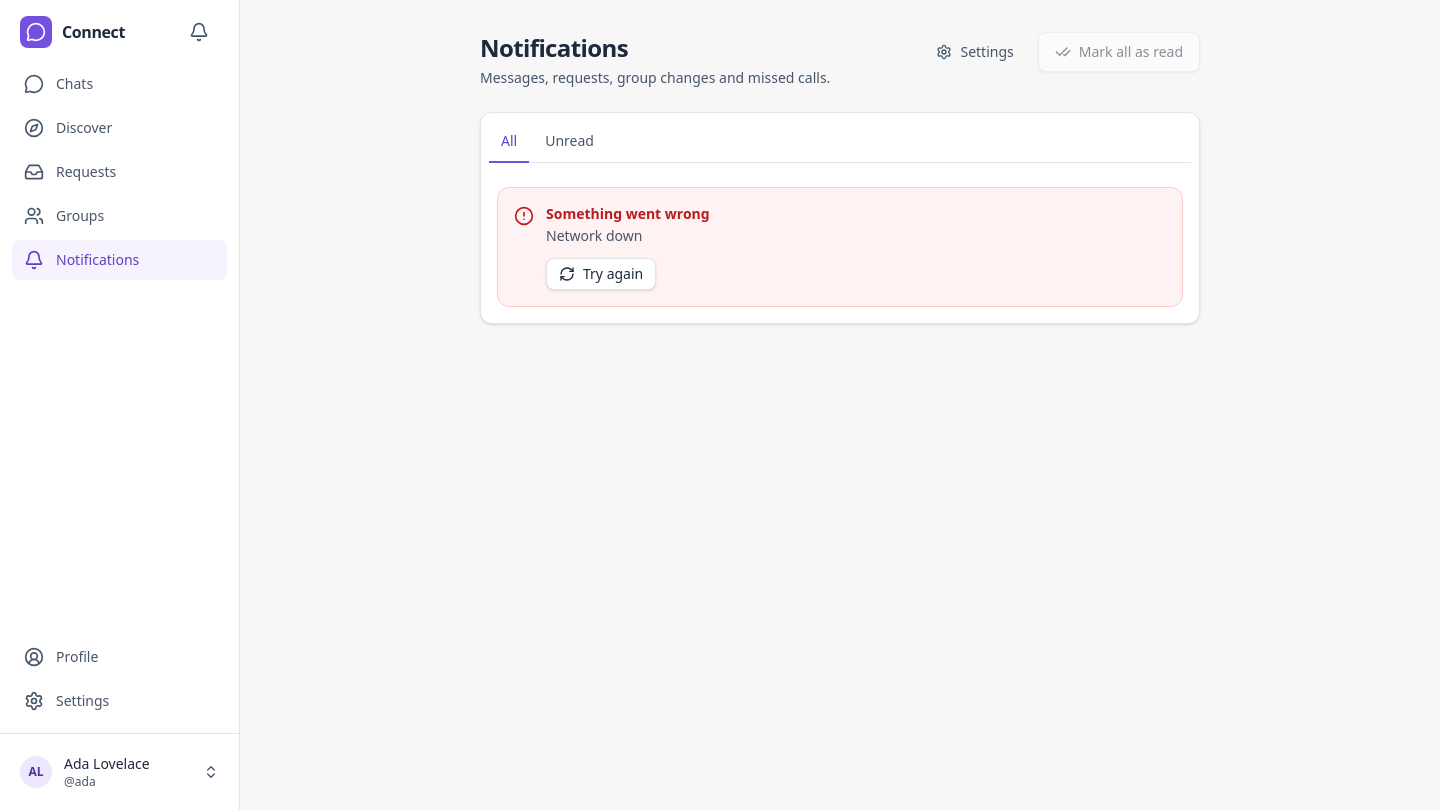
Test: NotificationsPage › shows empty and error states
expect the text "Network down" is shown: met, box [546,226,642,245]
Click the button "Try again". click: x=601, y=274
box: [546,258,656,290]
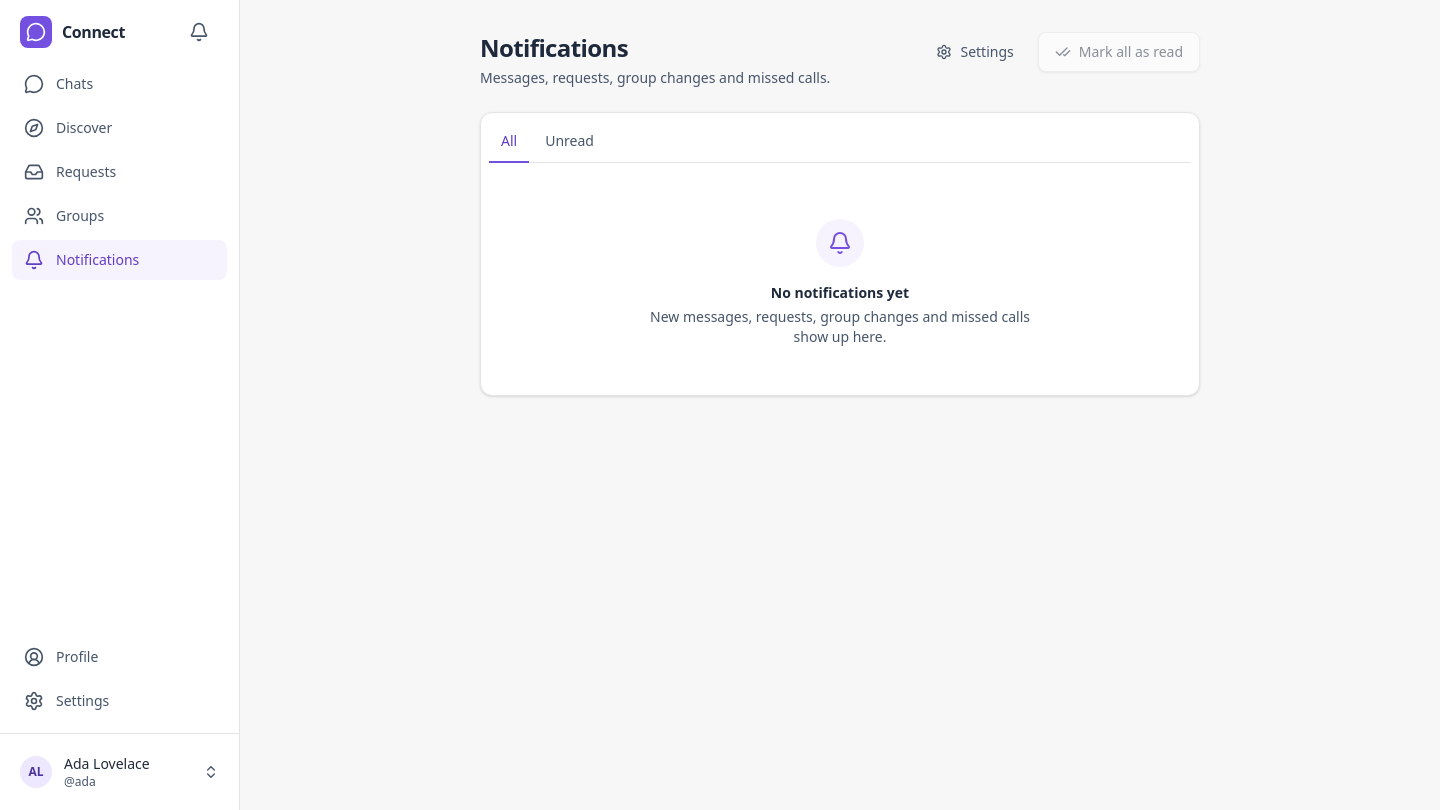
expect the heading "No notifications yet" is shown: met, box [771,283,909,303]
Click the tab "Unread". click: x=570, y=142
box: [533,121,606,163]
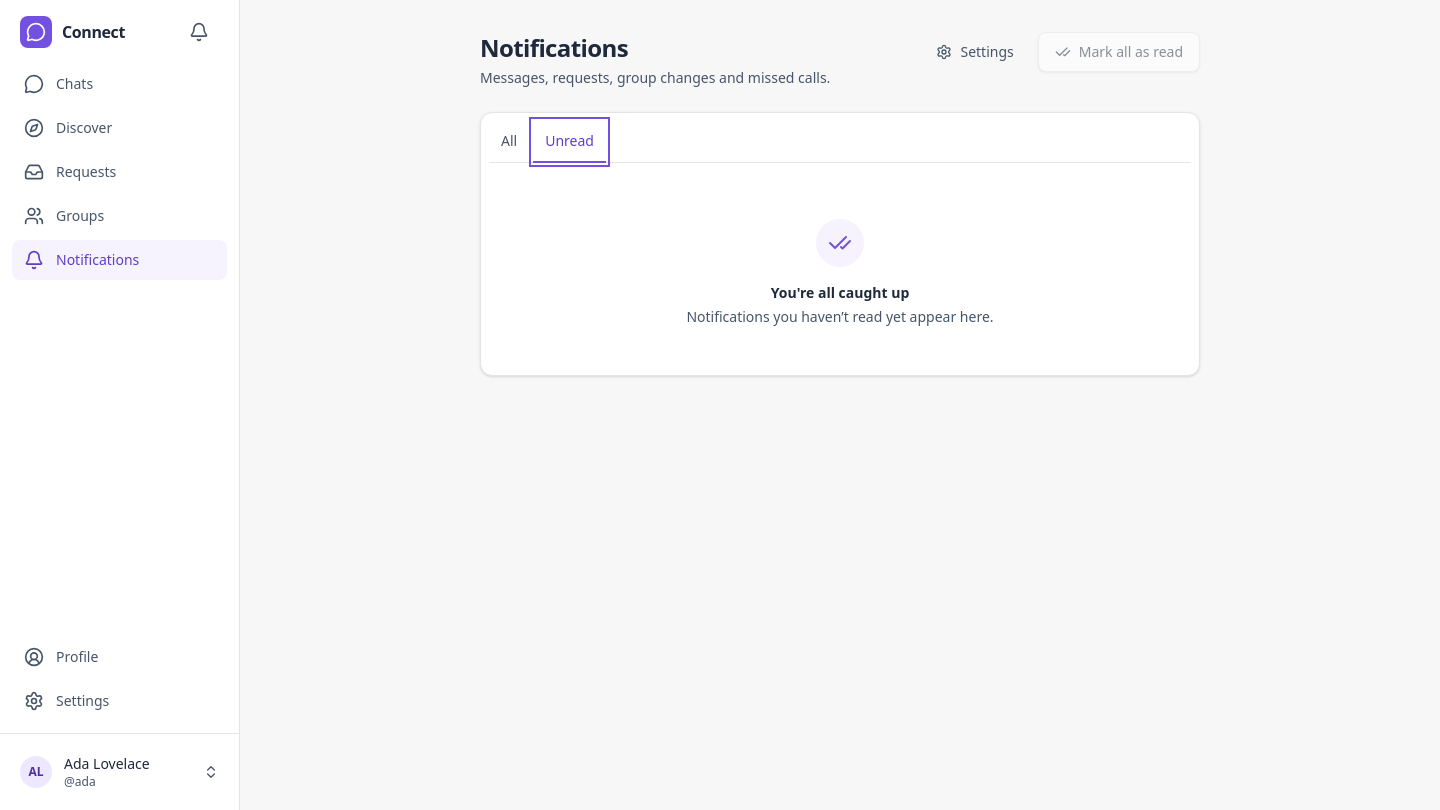
expect the heading "You're all caught up" is shown: met, box [771,283,909,303]
